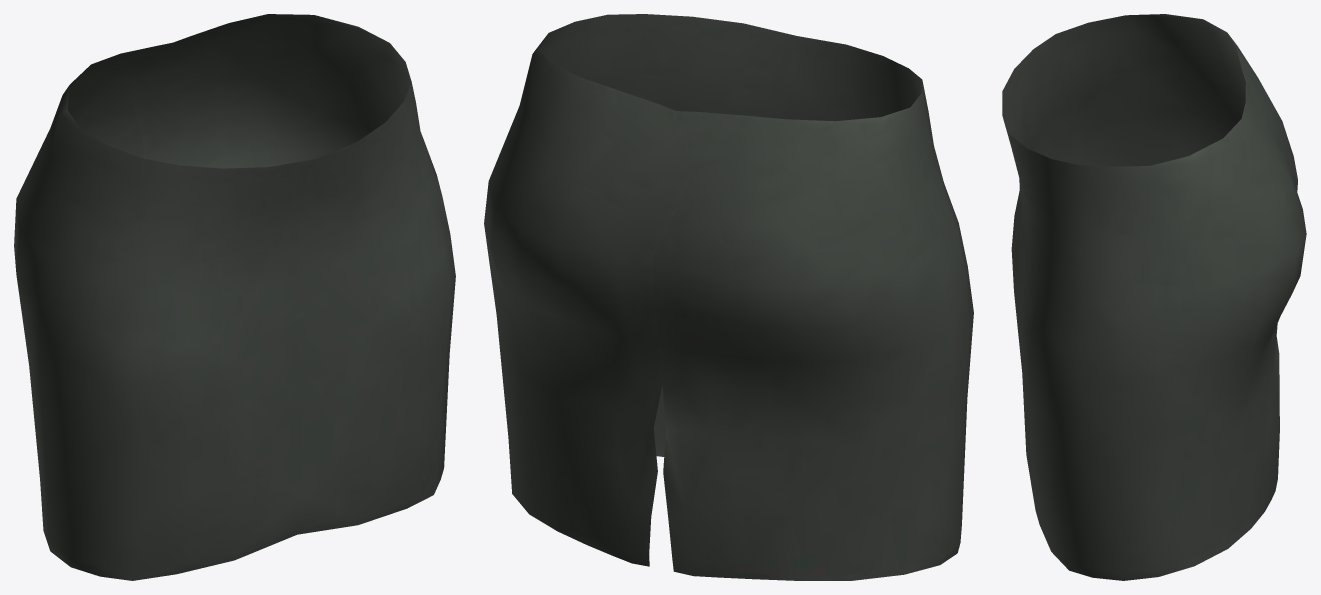
The model's file is skirt_seller.glb.
3 renders of one model, left to right at view 1: azimuth 30°, elevation 25°; view 2: azimuth 150°, elevation 25°; view 3: azimuth 270°, elevation 25°, orthographic. The views are drawn at different scales.
Visible parts, largest first — view 1: skirt_seller_out; view 2: skirt_seller_out; view 3: skirt_seller_out.
Boxes of the visible parts, bbox=[...] form: skirt_seller_out: bbox=[14, 14, 455, 580]; skirt_seller_out: bbox=[484, 14, 973, 580]; skirt_seller_out: bbox=[1002, 14, 1306, 580].
Size of the model in its own units: 443 by 456 by 302.
1 material, 1 textured.
